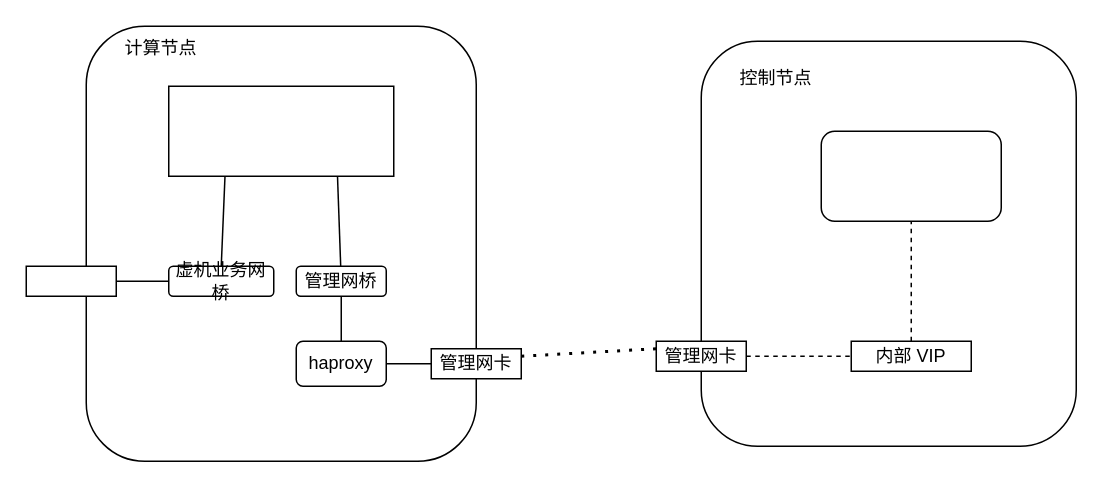
The diagram is 1103 pixels wide and 488 high, and some of its shapes have lost their labels. Here are the shapes that lost their labels. From the top down, the box of each, then its label:
(167, 85, 394, 176): VM
(820, 130, 1001, 221): 平台服务
(25, 265, 116, 296): 业务网卡
